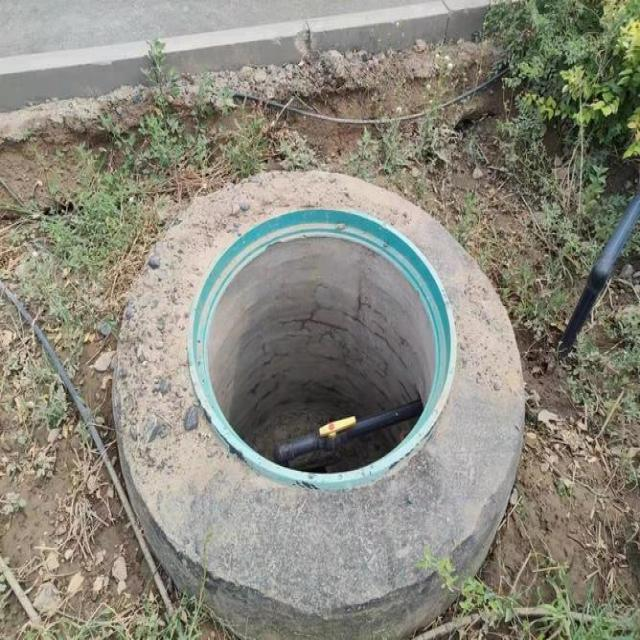hole: (179, 206, 470, 495)
